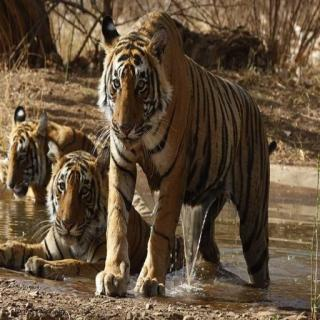Tiger: (98, 9, 302, 297), (8, 153, 176, 293), (0, 101, 83, 186)
